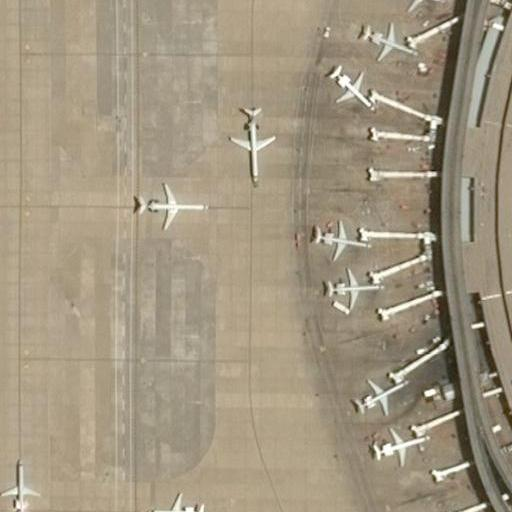Aircraft: (221, 96, 278, 189), (123, 174, 208, 234), (357, 420, 431, 474), (310, 263, 384, 313), (304, 211, 373, 262), (350, 16, 422, 64), (322, 58, 380, 117), (342, 369, 407, 419), (1, 451, 39, 512), (146, 487, 212, 512), (387, 0, 442, 12)
